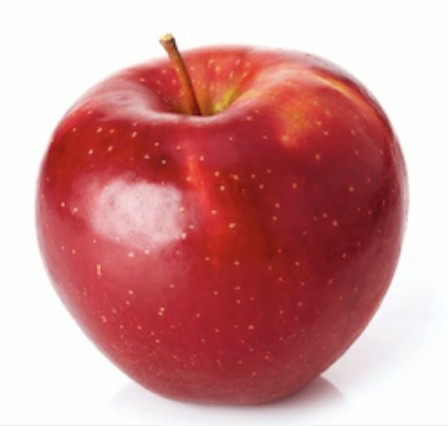fresh_apple: (36, 48, 408, 404)
